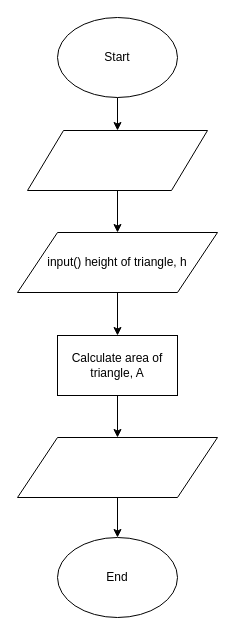
Some shapes in this 235 by 635 pixel diagram are drawn without their labels. Each missing label, with the centre of its shape:
"disp() area of triangle, A" belongs at (x=117, y=467).
"input() base of triangle, b" belongs at (x=117, y=160).
